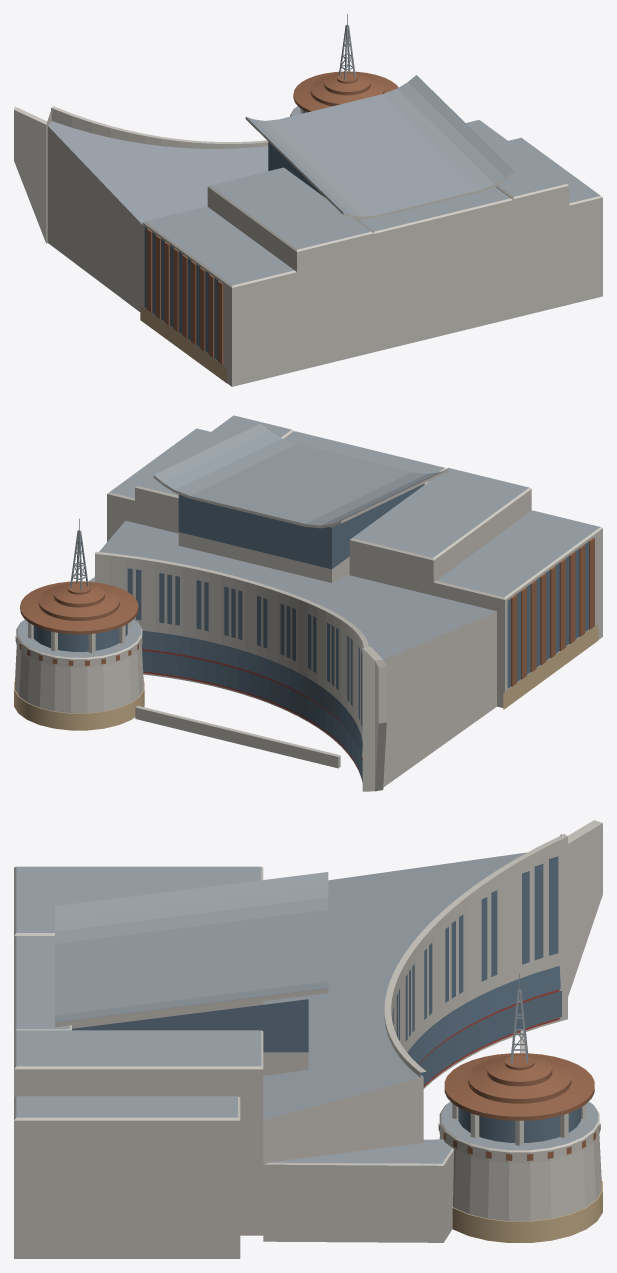
The model's file is nash-country-music-hall-of-fame.glb.
3 renders of one model, top to bottom at view 1: azimuth 30°, elevation 25°; view 2: azimuth 150°, elevation 25°; view 3: azimuth 270°, elevation 25°, orthographic. The views are drawn at different scales.
Parts seen in each view (by area): view 1: Country Music Hall of Fame and Museum; view 2: Country Music Hall of Fame and Museum; view 3: Country Music Hall of Fame and Museum.
Part boxes in pixels (x1=…): Country Music Hall of Fame and Museum: x1=14, y1=14, x2=602, y2=386; Country Music Hall of Fame and Museum: x1=14, y1=415, x2=602, y2=791; Country Music Hall of Fame and Museum: x1=14, y1=820, x2=602, y2=1258.
Bounding box in the file's own units: 109 × 46 × 105.
